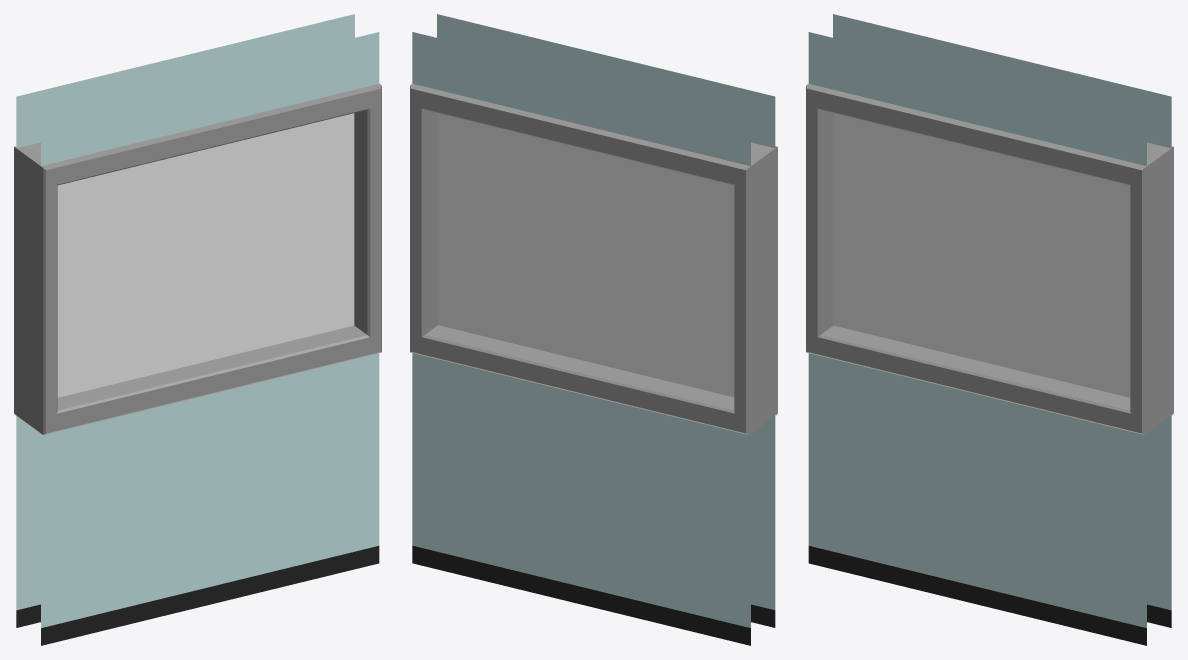
The model's file is interiorWindowWall_line_2.fbx.
3 renders of one model, left to right at view 1: azimuth 30°, elevation 25°; view 2: azimuth 150°, elevation 25°; view 3: azimuth 330°, elevation 25°, orthographic.
Visible parts, largest first — view 1: wall, glassWall; view 2: wall, glassWall; view 3: wall, glassWall.
Boxes of the visible parts, x1,y1,x2,y2 form: wall: (14, 14, 381, 645); glassWall: (57, 113, 354, 397); wall: (410, 14, 777, 645); glassWall: (438, 113, 734, 397); wall: (806, 14, 1173, 645); glassWall: (833, 113, 1130, 397).
Bounding box in the file's own units: 200 × 300 × 31.96.
